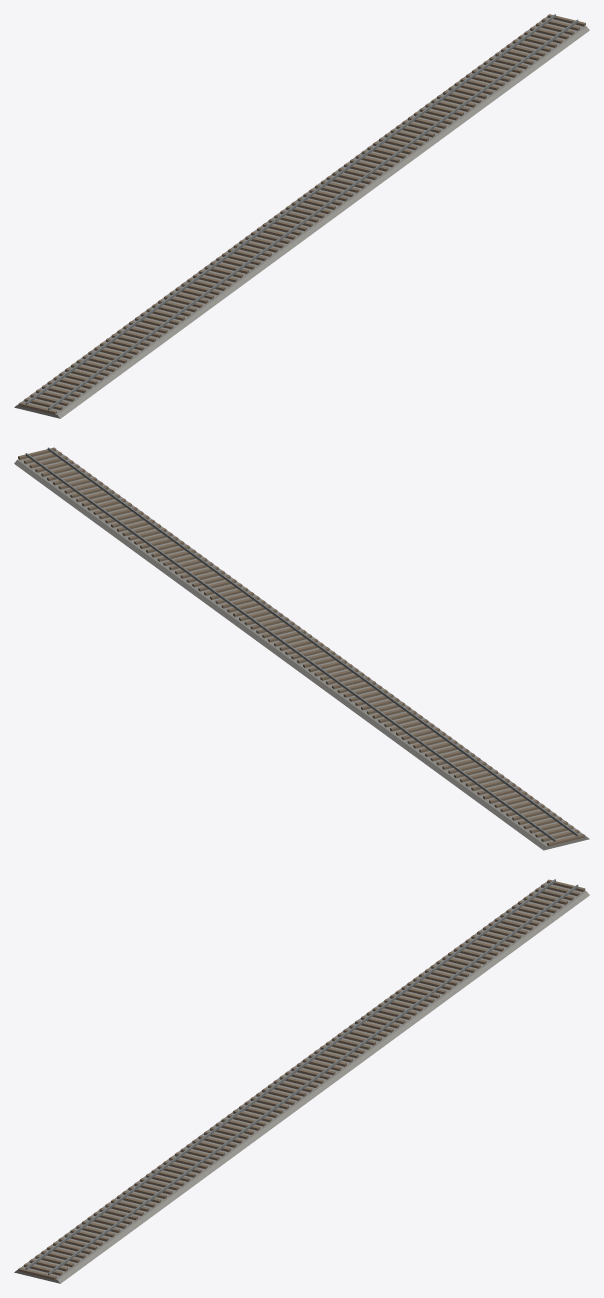
The model's file is rail_01191.glb.
3 views of the same model, one above another, from view 1: azimuth 90°, elevation 25°; view 2: azimuth 150°, elevation 25°; view 3: azimuth 270°, elevation 25° (orthographic).
Parts seen in each view (by area): view 1: Sleepers, Ballast, Rails; view 2: Sleepers, Ballast, Rails; view 3: Sleepers, Ballast, Rails.
Part boxes in pixels (box(x1,y1,x2,y2)): Sleepers: box(18, 14, 585, 414); Ballast: box(14, 16, 589, 418); Rails: box(25, 14, 578, 410); Sleepers: box(18, 447, 585, 846); Ballast: box(14, 450, 589, 850); Rails: box(25, 447, 578, 841); Sleepers: box(18, 879, 585, 1279); Ballast: box(14, 881, 589, 1283); Rails: box(25, 879, 578, 1275).
Size of the model in its own units: 52.81 by 0.48 by 32.16.
